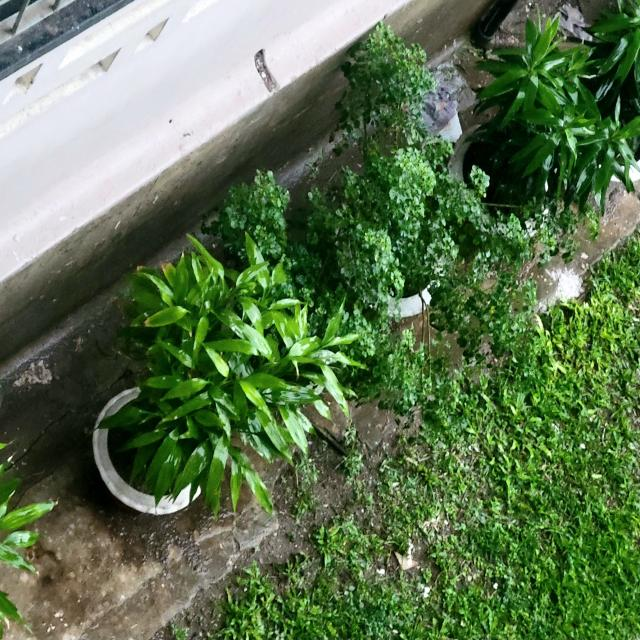Breeding Place: (116, 126, 640, 640), (0, 279, 294, 640), (65, 272, 314, 538), (216, 176, 465, 437), (319, 27, 507, 354), (478, 0, 640, 242)
